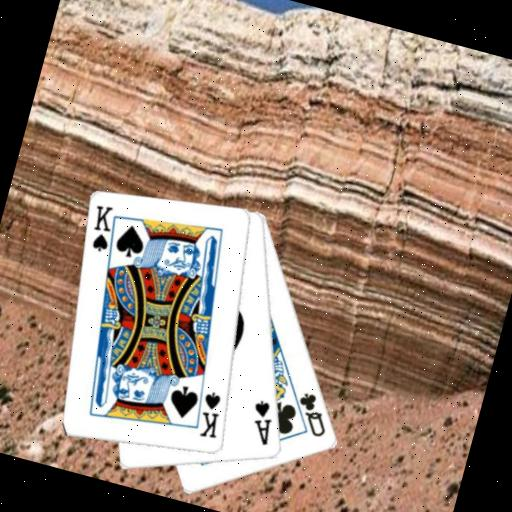AS: (242, 395, 280, 448)
KS: (82, 200, 125, 260), (191, 386, 229, 442)
QC: (287, 387, 336, 441)
